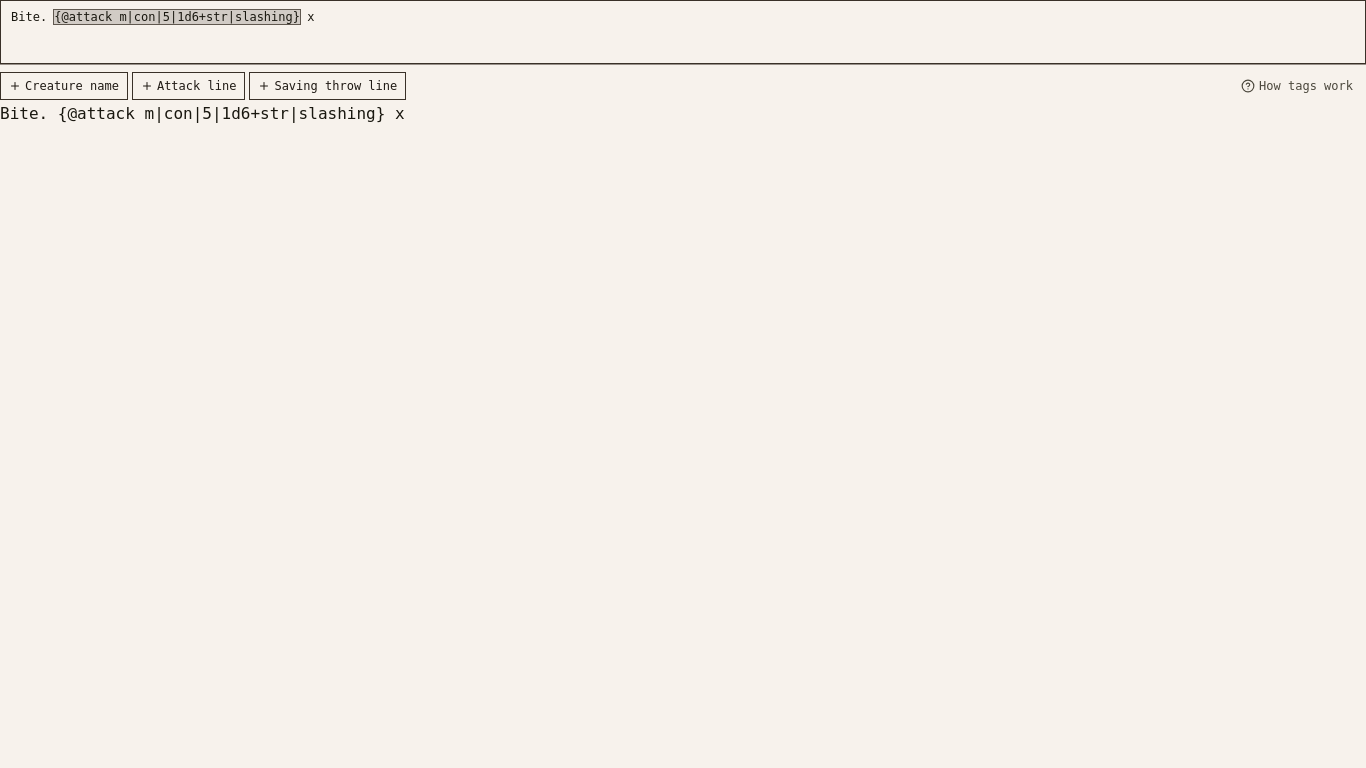
Scenario: MarkupField (CodeMirror) › opens the editor dialog from a click on raw token text (caret inside)
Click the text box labelled "{@attack m|con|5|1d6+str|slashing}" at x=177, y=17, box [54,10,300,24]
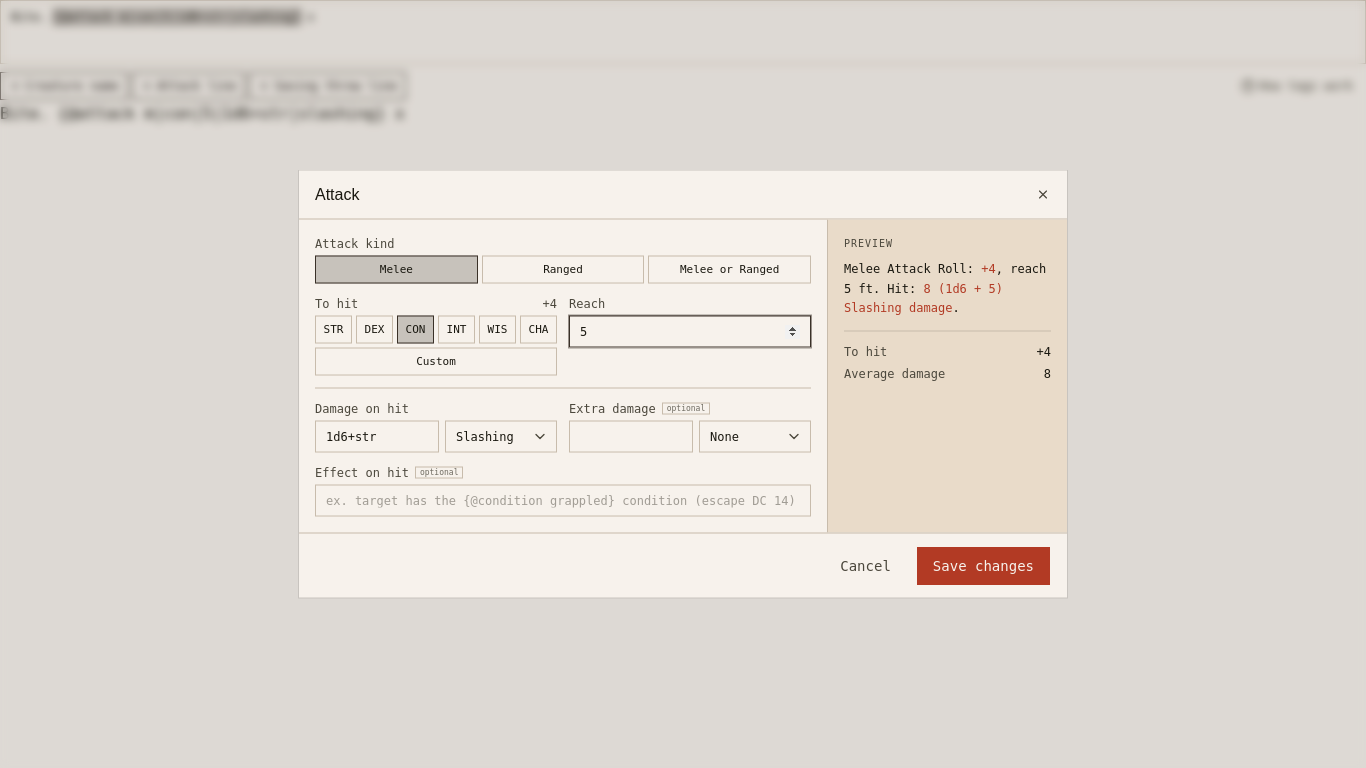
Expected: the field named "Damage dice" is shown, [315,420,439,452]
